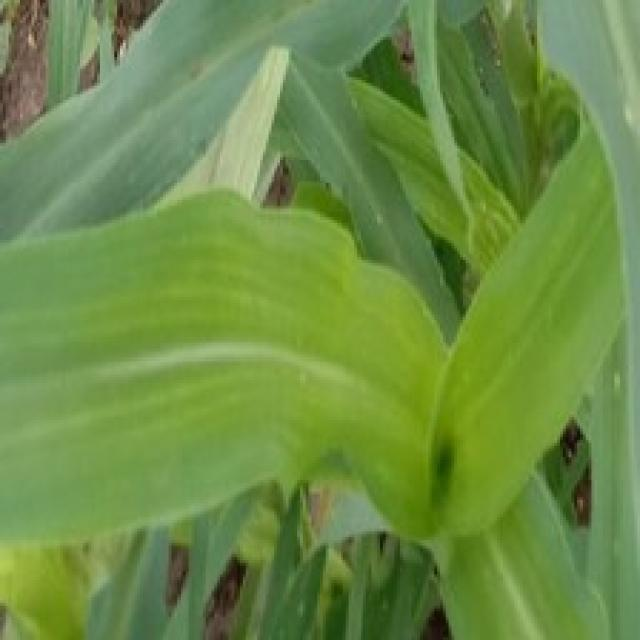Corn: (0, 0, 637, 637), (0, 183, 449, 548), (0, 0, 414, 248), (423, 97, 626, 537)
